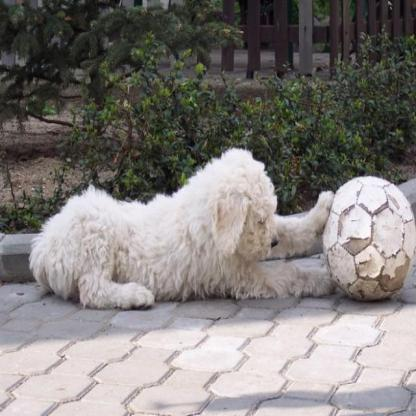komondor: (27, 140, 340, 312)
